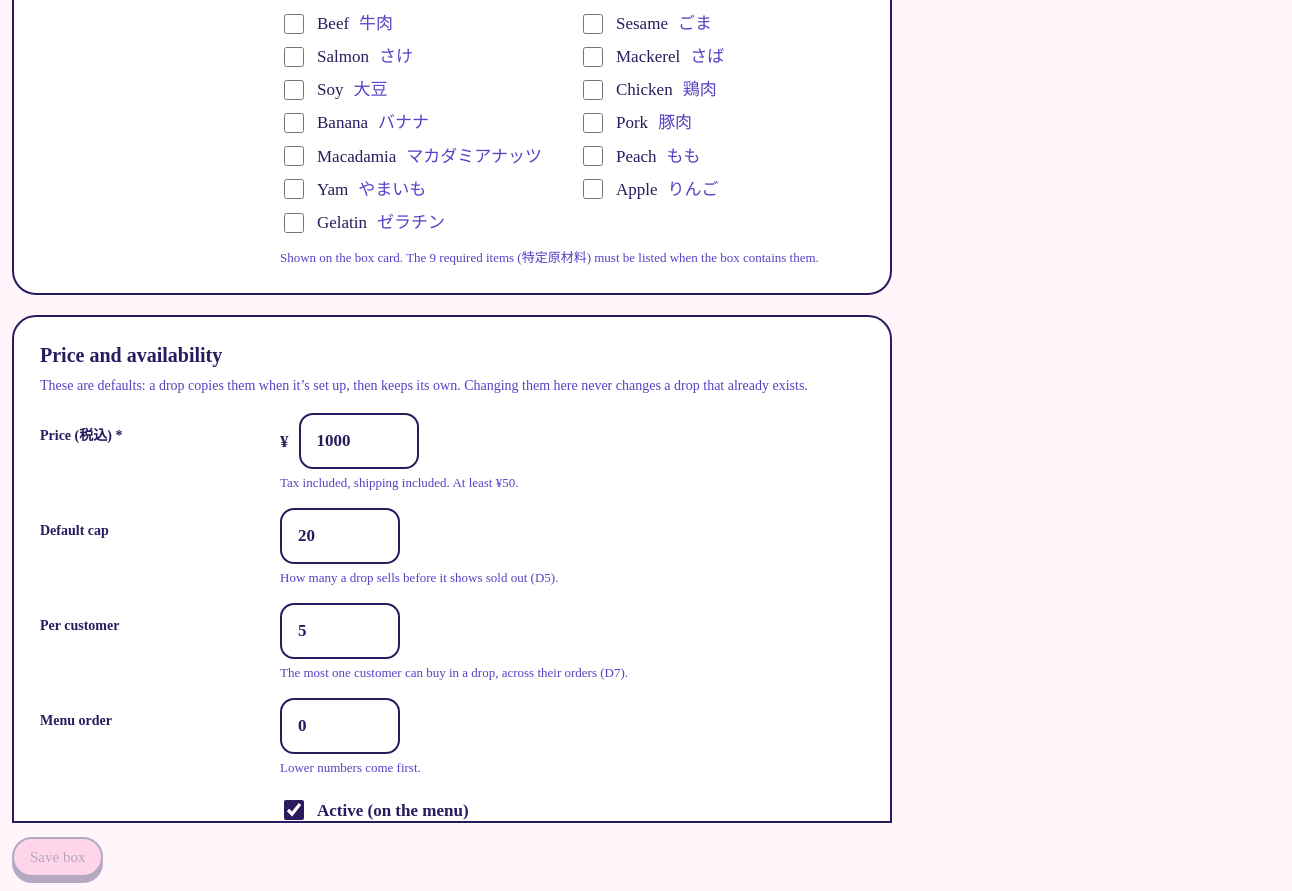
BoxForm › shows the server's errors by the field or recipe line, focusing the first
The image size is (1292, 891).
(page scrolled)
Step 1. Replace the text in the field labelled "Price (税込) *" with "10" → {"x": 358, "y": 441}, box x1=298 y1=413 x2=418 y2=469
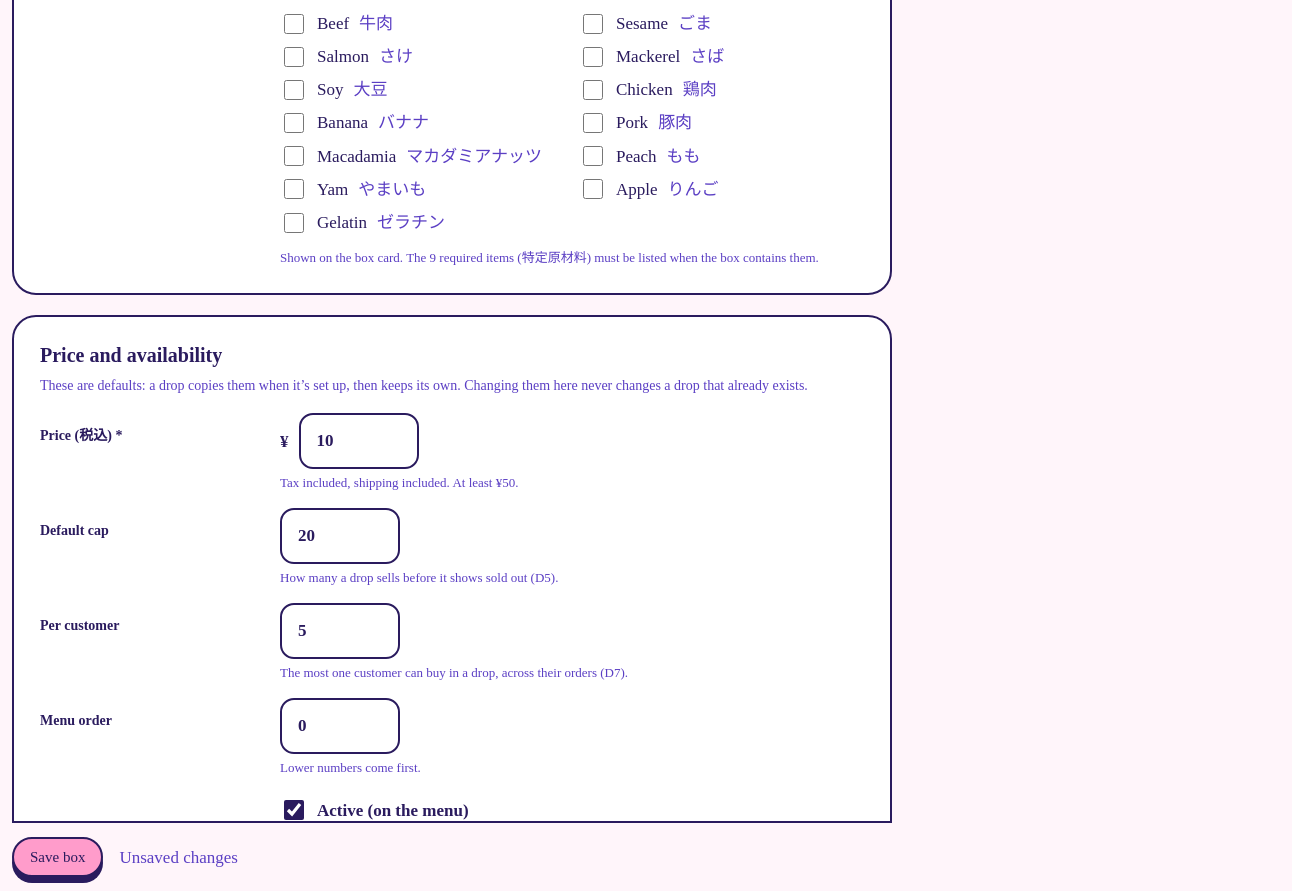
Step 2. Click the button "Save box" → {"x": 58, "y": 857}, box x1=12 y1=837 x2=103 y2=877
(page scrolled)
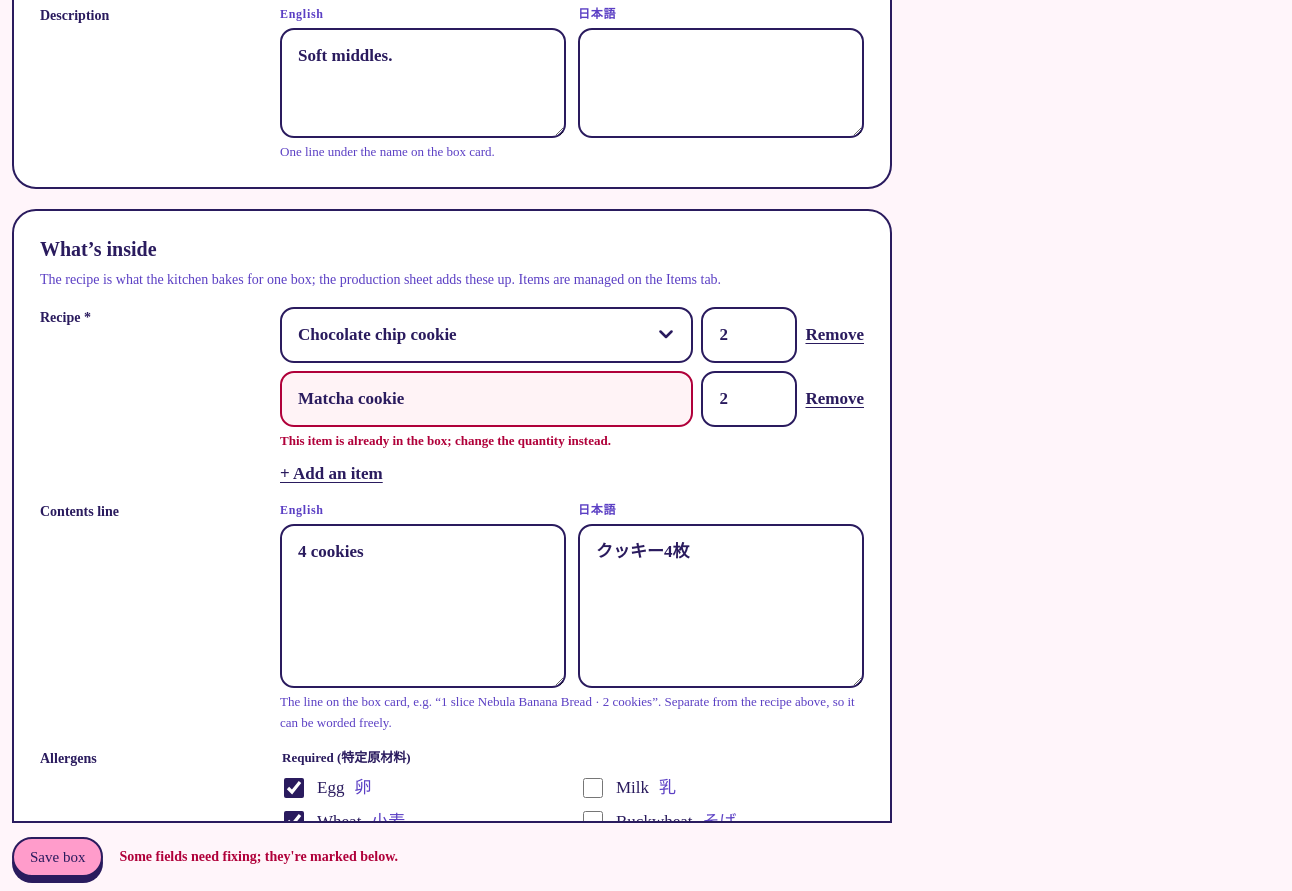
Result: the text "already in the box" is shown at x1=280 y1=433 x2=611 y2=448
Result: the message shows "need fixing" at x1=119 y1=849 x2=398 y2=864
